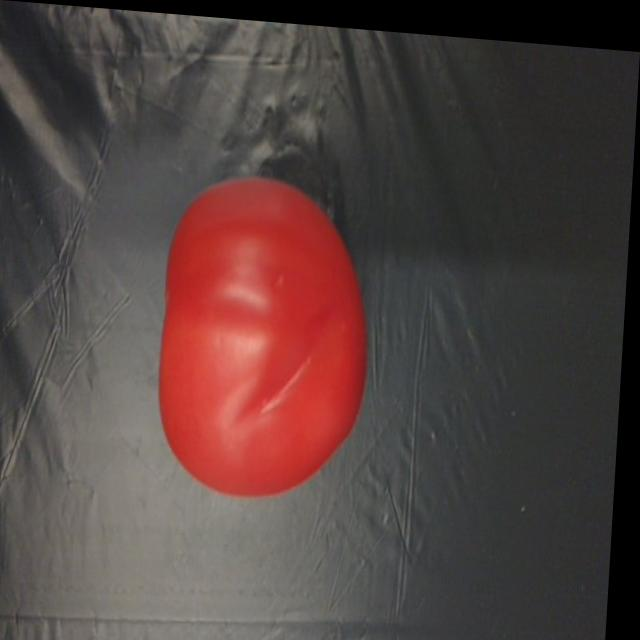kirmizi: (159, 173, 378, 499)
